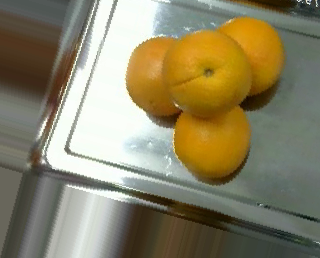Orange: (162, 29, 253, 118), (173, 98, 251, 181), (125, 35, 202, 117), (217, 15, 285, 94)
